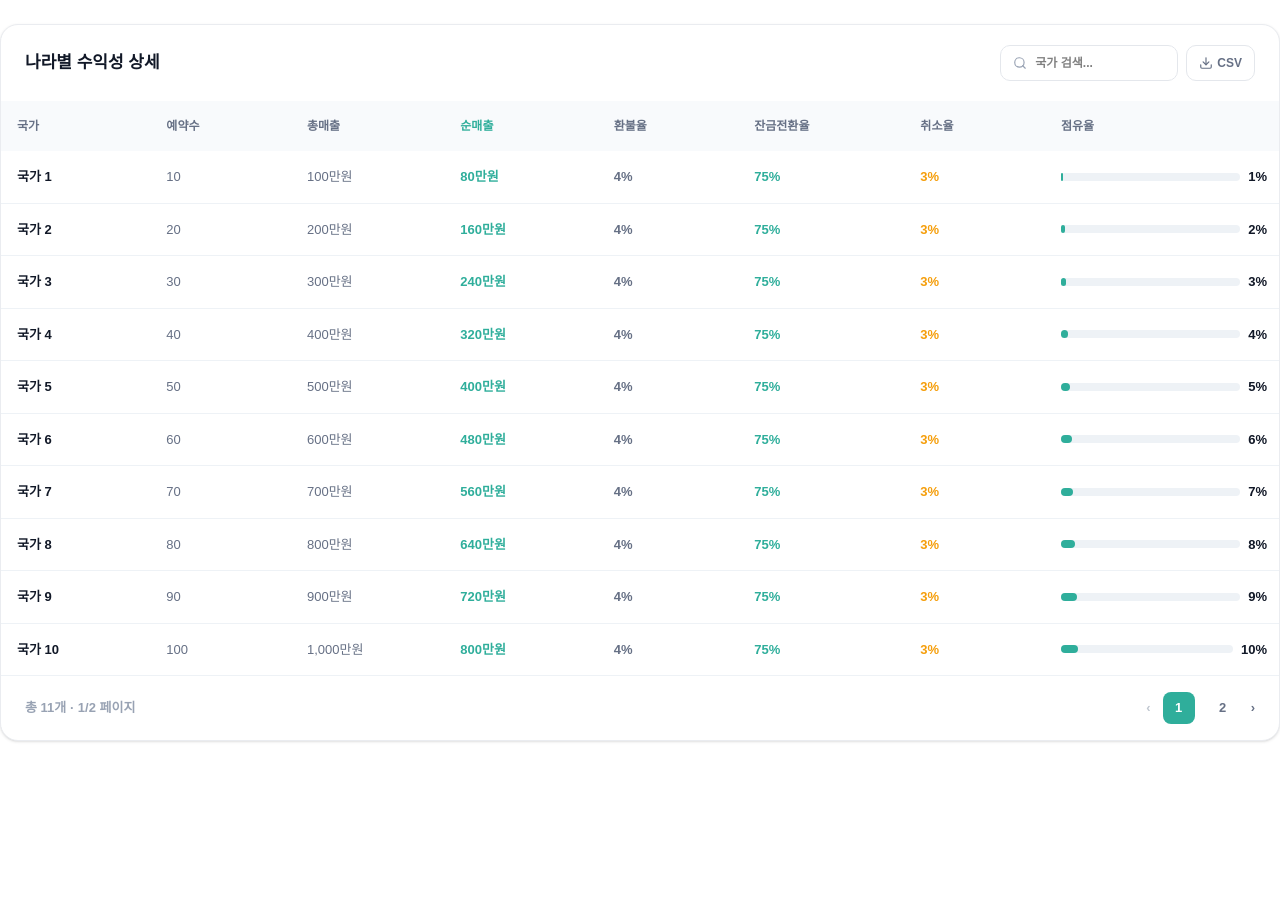
나라별 수익성 컴포넌트 테스트 › 10개를 초과하면 다음 페이지로 이동할 수 있다.
Check: the text "국가 1" is shown, box [1, 151, 154, 203]
Check: the text "국가 11" is not shown
Click the button named "다음 페이지".
click(1253, 708)  # box [1251, 698, 1255, 718]
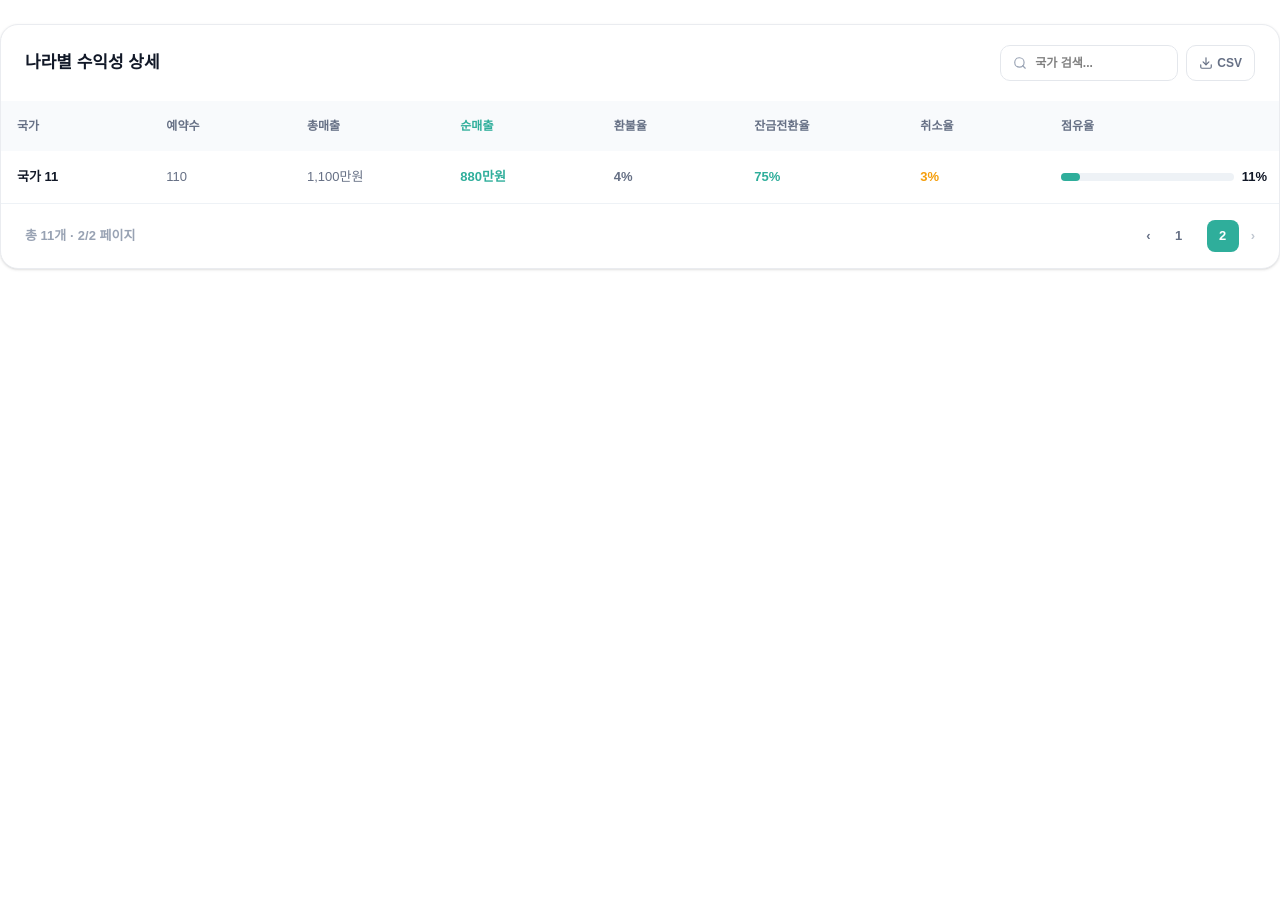
Check: the text "국가 11" is shown, box [1, 151, 154, 202]
Check: the text "총 11개 · 2/2 페이지" is shown, box [25, 226, 135, 245]
